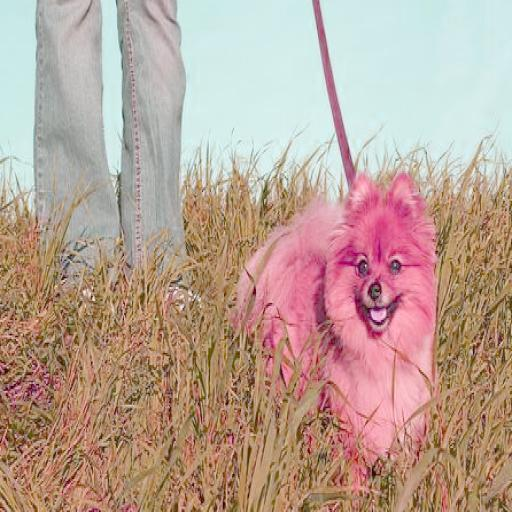dog_face: (335, 174, 423, 324)
